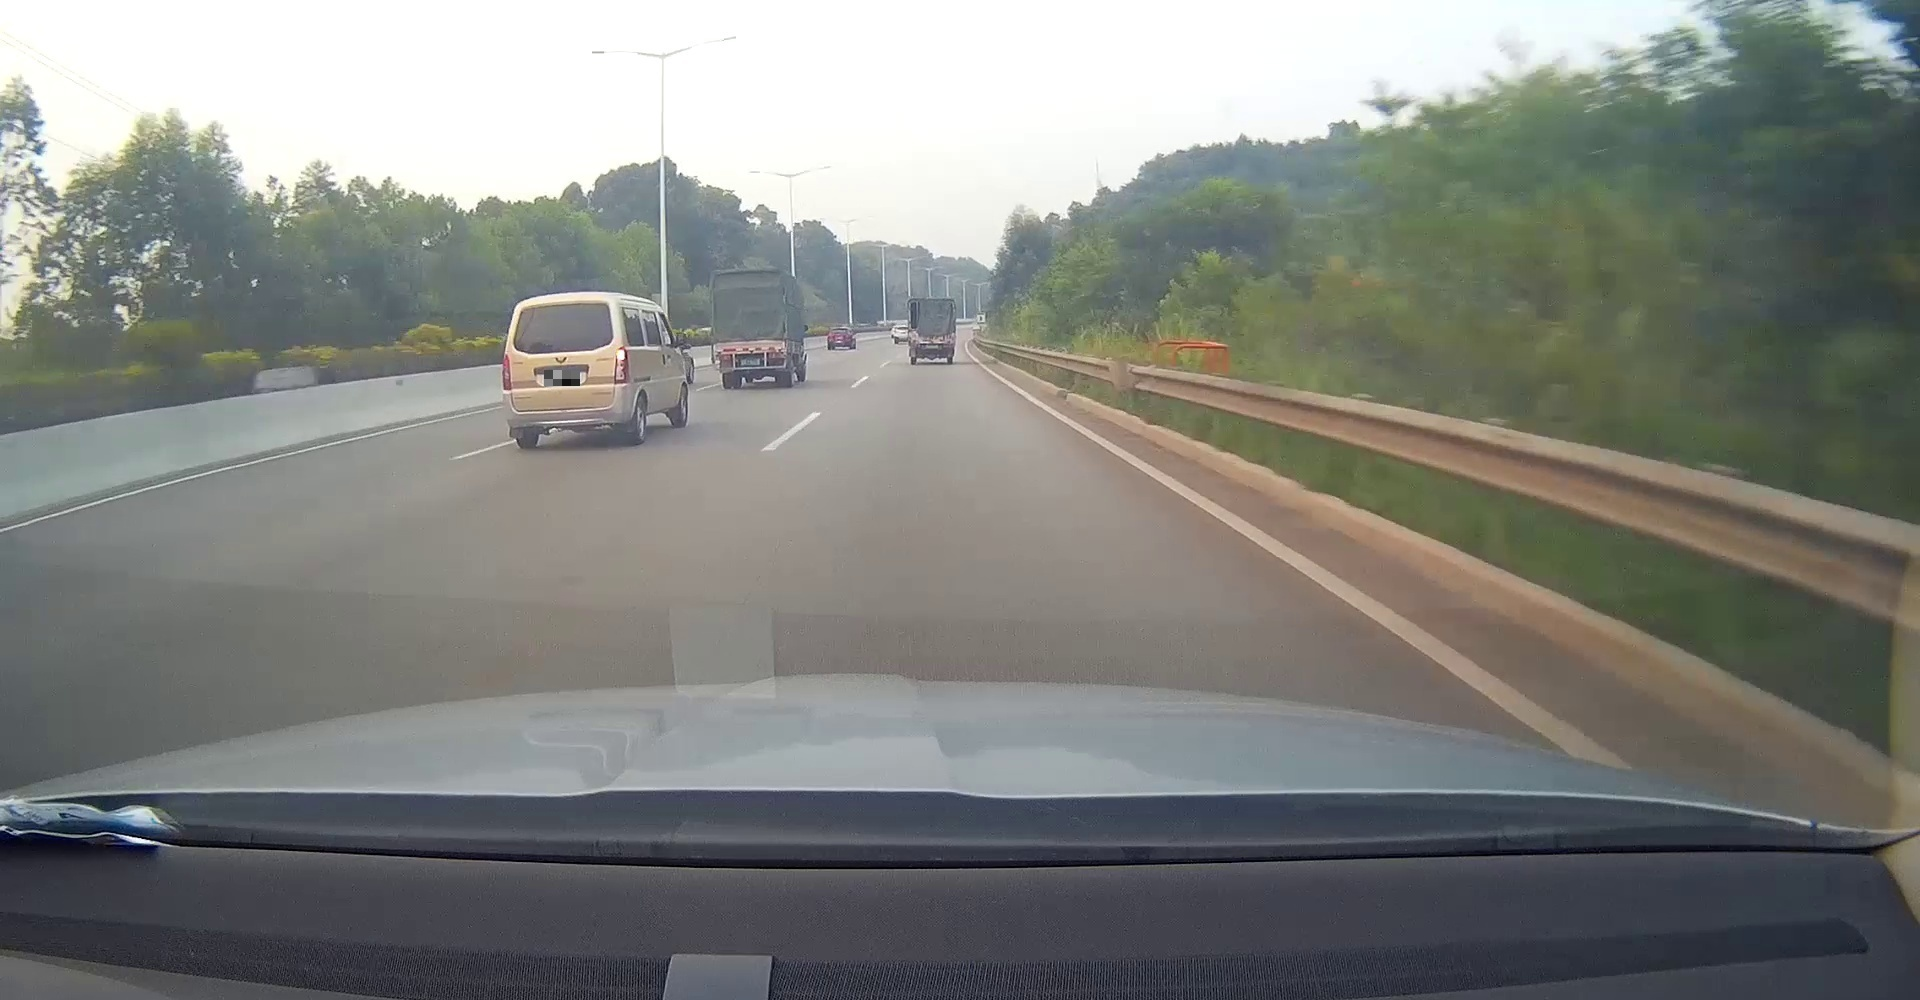L_light: (502, 354, 512, 390), (717, 354, 731, 360), (910, 343, 919, 348)
R_light: (615, 346, 631, 385), (768, 352, 785, 359), (943, 344, 952, 349)
T_light: (557, 299, 577, 305), (739, 348, 757, 352), (927, 340, 937, 343)
day-no: (709, 268, 792, 390), (907, 298, 956, 365)
day-right: (502, 291, 632, 451)
plate_1: (543, 371, 580, 386)
